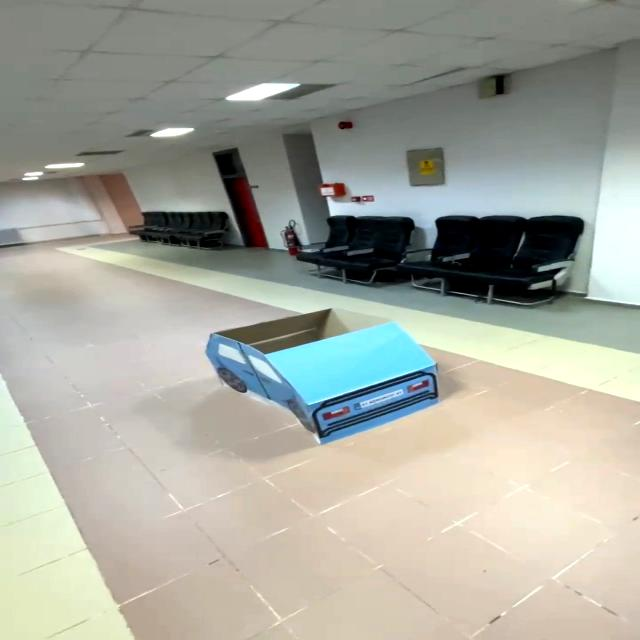blue_car: (196, 290, 464, 450)
